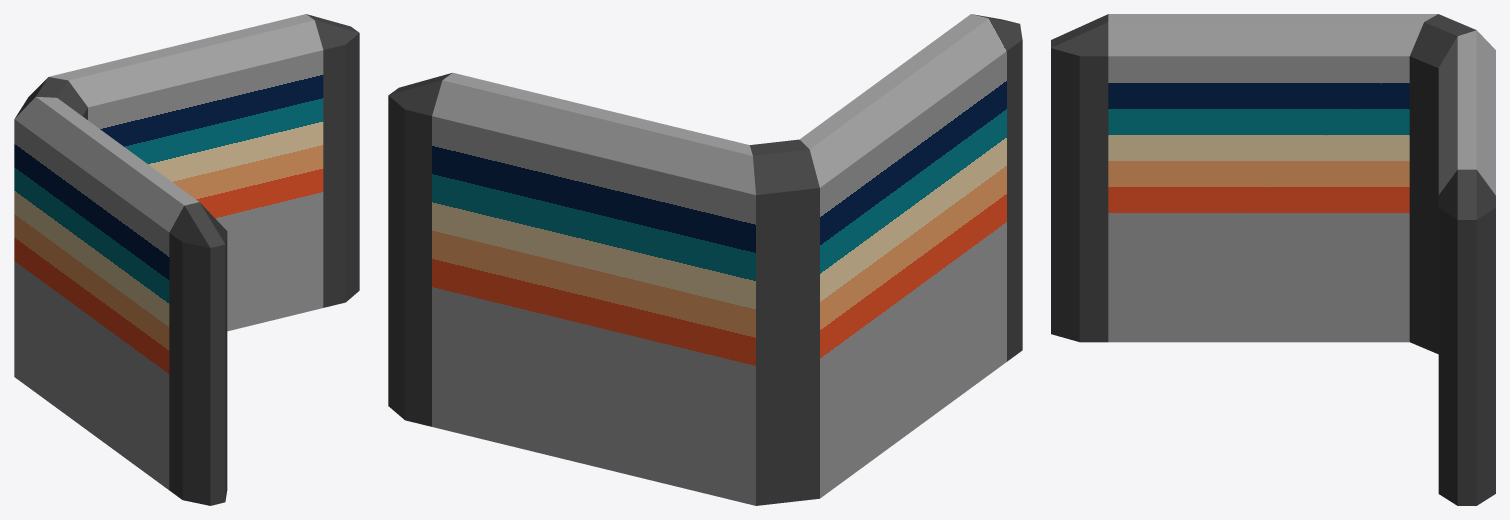
File: CalShipCatWalkRailCorner.gltf
3 views of the same model, side by side, from view 1: azimuth 30°, elevation 25°; view 2: azimuth 150°, elevation 25°; view 3: azimuth 270°, elevation 25° (orthographic). The views are drawn at different scales.
Parts seen in each view (by area): view 1: mesh; view 2: mesh; view 3: mesh.
Part boxes in pixels (x1=…): mesh: x1=14, y1=14, x2=359, y2=505; mesh: x1=388, y1=14, x2=1022, y2=505; mesh: x1=1051, y1=14, x2=1495, y2=505.
Size of the model in its own units: 0.9688 by 0.75 by 0.9688.
Materials: 1 (1 with a texture image).
